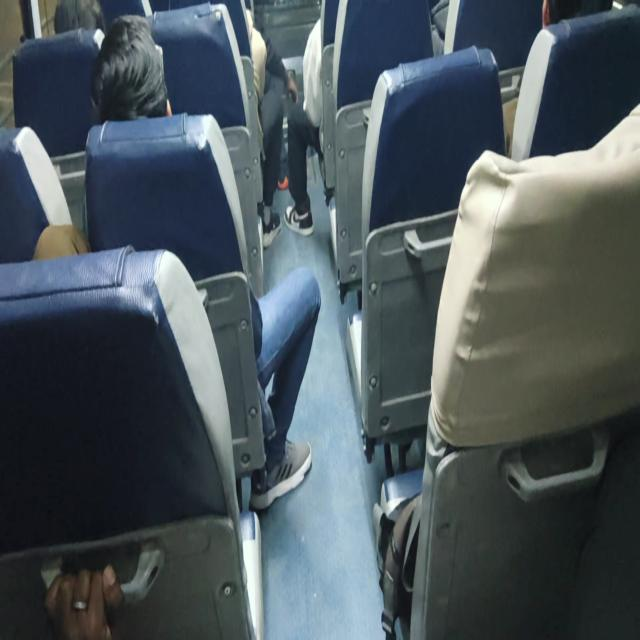person: (33, 13, 321, 512), (32, 13, 172, 259), (244, 7, 298, 248), (284, 15, 327, 236), (89, 13, 172, 122), (43, 562, 125, 638)
